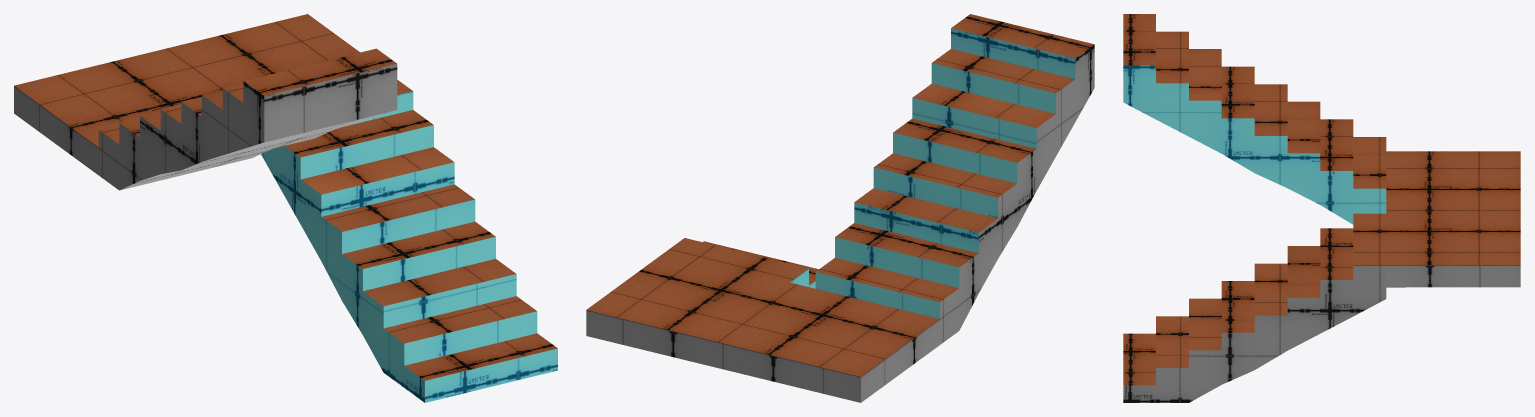
Rendered from Casa_INTERIOR_Escalera_vivienda.fbx.
3 views of the same model, side by side, from view 1: azimuth 30°, elevation 25°; view 2: azimuth 150°, elevation 25°; view 3: azimuth 270°, elevation 25° (orthographic). The views are drawn at different scales.
Parts seen in each view (by area): view 1: Casa_INTERIOR_Escalera_vivienda; view 2: Casa_INTERIOR_Escalera_vivienda; view 3: Casa_INTERIOR_Escalera_vivienda.
Part boxes in pixels (box(x1,y1,x2,y2)): Casa_INTERIOR_Escalera_vivienda: box(14, 14, 557, 402); Casa_INTERIOR_Escalera_vivienda: box(586, 14, 1094, 402); Casa_INTERIOR_Escalera_vivienda: box(1123, 14, 1520, 402).
Size of the model in its own units: 2.88 by 3.23 by 4.23.
